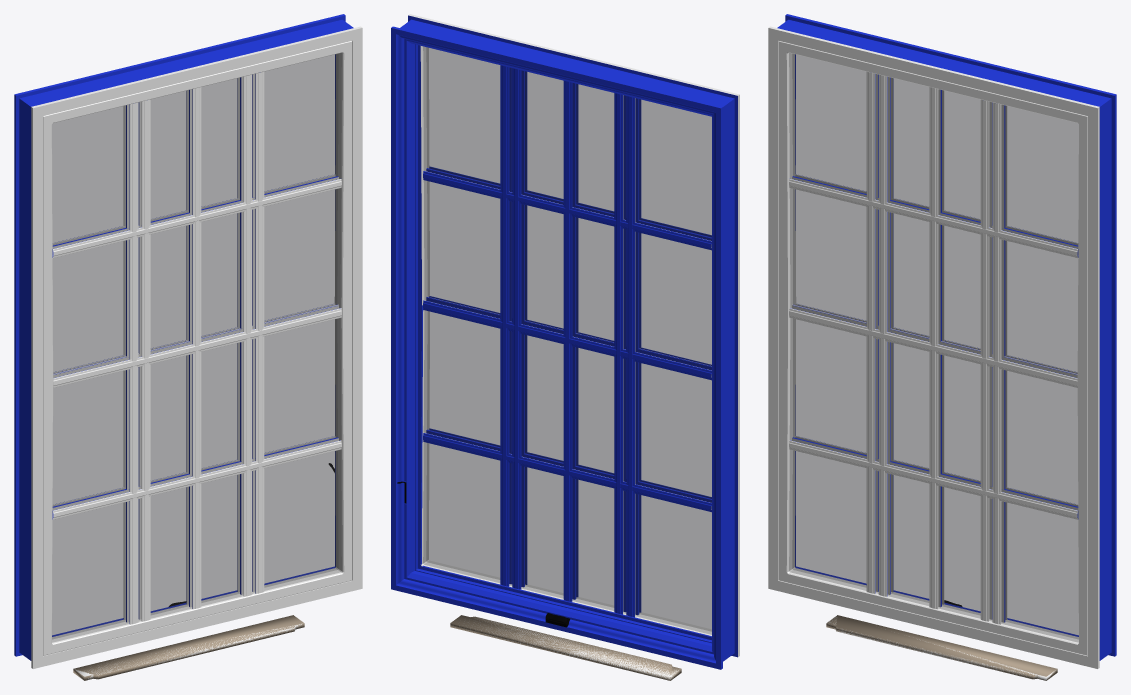
Rendered from Lifestyle_Casement.glb.
3 views of the same model, side by side, from view 1: azimuth 30°, elevation 25°; view 2: azimuth 150°, elevation 25°; view 3: azimuth 330°, elevation 25° (orthographic).
Parts seen in each view (by area): view 1: glass1, window, sdl2, frame1, sdl3, sdl0, Fossil, flat2, flat3, White; view 2: glass1, window, sdl2, sdl3, sdl0, frame1, bar1.001, flat2, bar1.002, flat3, Fossil, White (+2 smaller); view 3: glass1, window, sdl2, frame1, sdl3, sdl0, Fossil, flat2, flat3, flat0, White, gbg2.
Boxes of the visible parts, box(x1,y1,x2,y2) form: glass1: box(52, 53, 341, 642); window: box(14, 14, 362, 668); sdl2: box(52, 74, 341, 621); frame1: box(43, 41, 352, 655); sdl3: box(123, 72, 264, 624); sdl0: box(53, 87, 341, 609); Fossil: box(73, 615, 304, 680); flat2: box(52, 305, 338, 507); flat3: box(126, 105, 127, 622); White: box(75, 623, 302, 679); glass1: box(423, 47, 711, 634); window: box(391, 14, 739, 669); sdl2: box(423, 68, 711, 614); sdl3: box(500, 65, 641, 617); sdl0: box(423, 81, 711, 601); frame1: box(418, 45, 711, 640); bar1.001: box(404, 39, 713, 653); flat2: box(426, 70, 711, 612); bar1.002: box(404, 39, 713, 654); flat3: box(509, 67, 639, 615); Fossil: box(450, 615, 681, 680); White: box(455, 616, 678, 679); glass1: box(789, 53, 1078, 642); window: box(768, 14, 1116, 668); sdl2: box(789, 74, 1078, 621); frame1: box(778, 41, 1087, 655); sdl3: box(866, 72, 1007, 624); sdl0: box(789, 87, 1077, 609); Fossil: box(826, 615, 1057, 680); flat2: box(792, 77, 1078, 619); flat3: box(1003, 105, 1005, 622); flat0: box(940, 90, 941, 606); White: box(828, 616, 1055, 680); gbg2: box(792, 77, 1077, 594).
Size of the model in its own units: 0.7966 by 1.36 by 0.0955.
